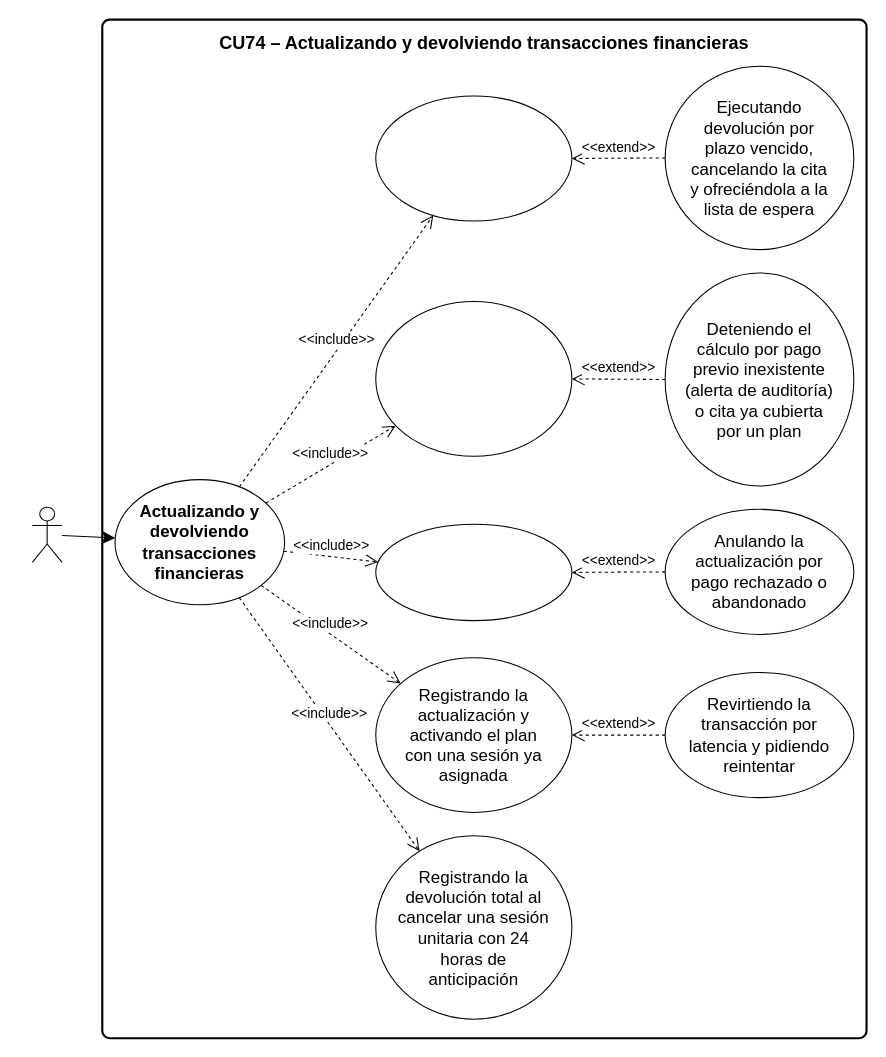
The diagram is 886 pixels wide and 1057 high, and some of its shapes have lost their labels. Each missing label, with the box of its shape:
Ejecutando pago de monto diferencial: (375, 523, 572, 621)
Eligiendo 'Cambiar a plan' de 10, 15 o 20 sesiones sobre la cita pagada: (375, 95, 572, 221)
Paciente: (31, 506, 62, 562)
Verificando la ventana de 24 horas y calculando la diferencia con lo pagado: (375, 301, 572, 456)
